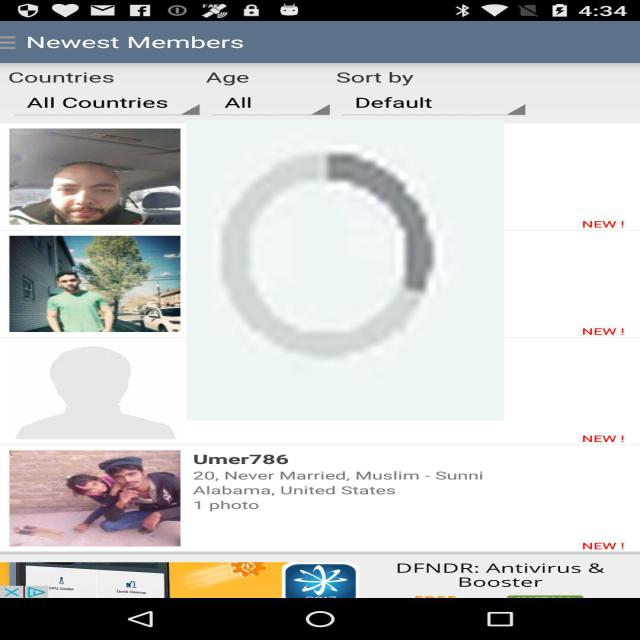misdirection: (186, 120, 504, 420)
